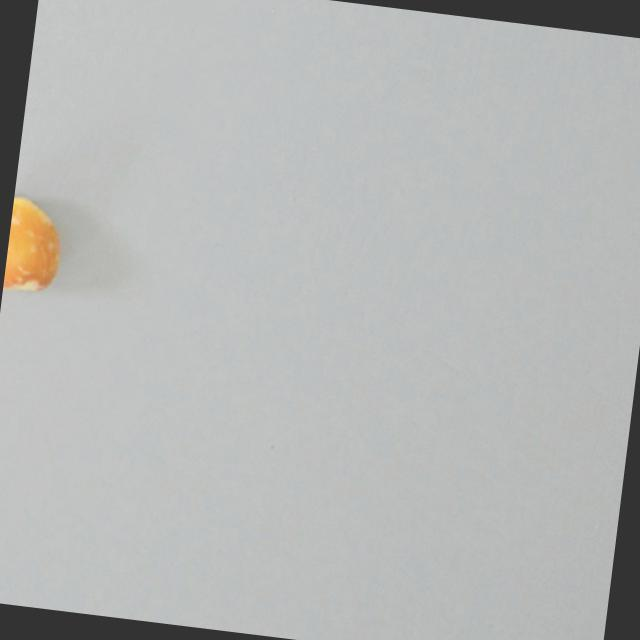dañado: (1, 193, 70, 302)
